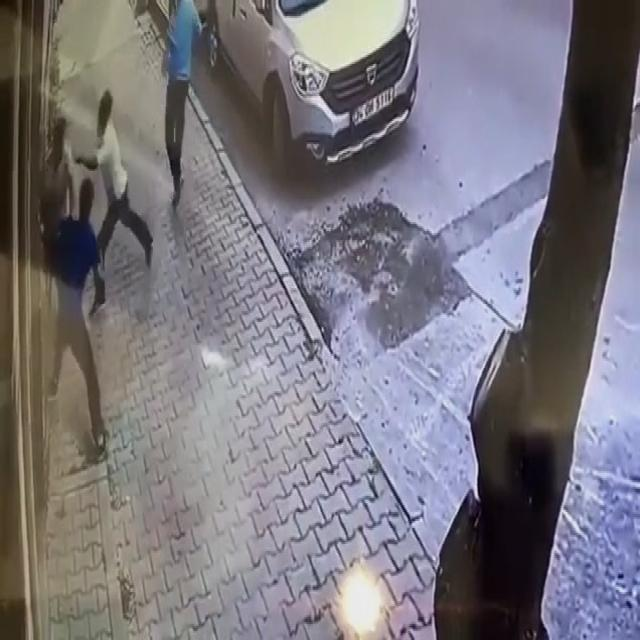fight: (43, 111, 97, 468), (42, 86, 130, 252)
